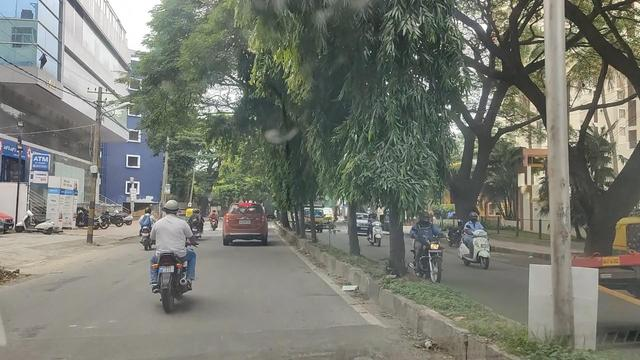LMV: (154, 200, 188, 311), (224, 201, 266, 244)
RoadDamages: (307, 339, 392, 360), (59, 313, 104, 342), (46, 274, 88, 296), (15, 323, 46, 347)
